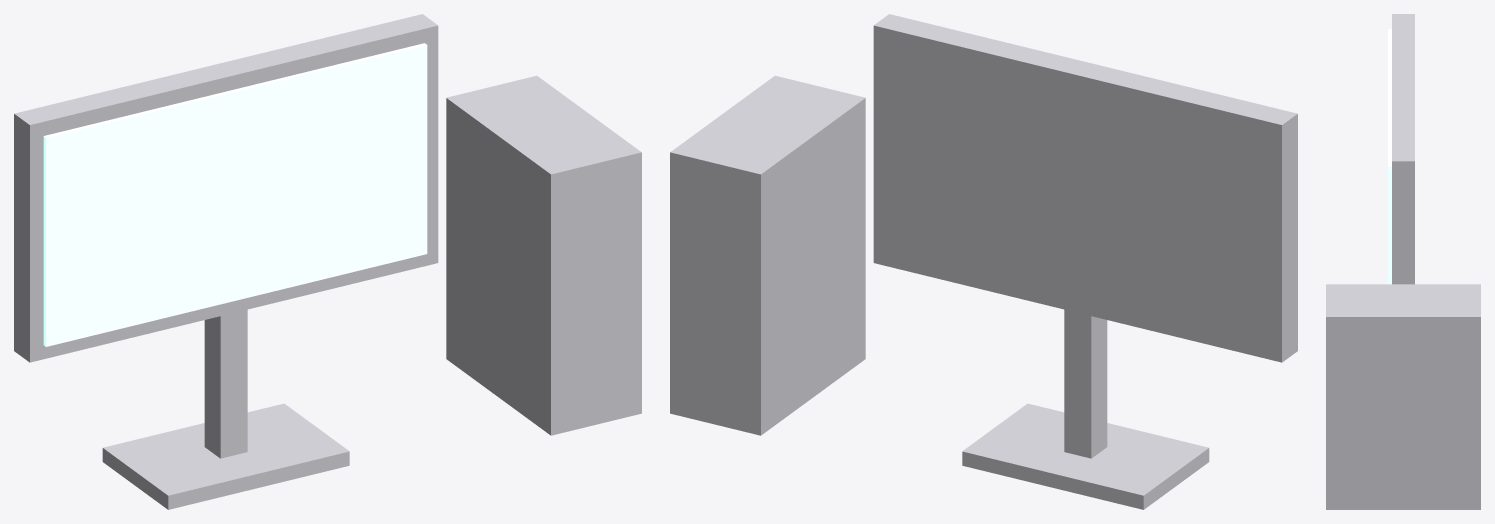
File: computer2.glb
3 renders of one model, left to right at view 1: azimuth 30°, elevation 25°; view 2: azimuth 150°, elevation 25°; view 3: azimuth 270°, elevation 25°, orthographic. The views are drawn at different scales.
Bounding box in the file's own units: 1.25 × 0.83 × 0.4.
